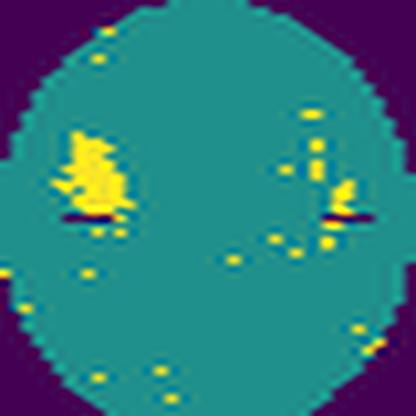Loc: (51, 127, 135, 222), (324, 176, 360, 234)
